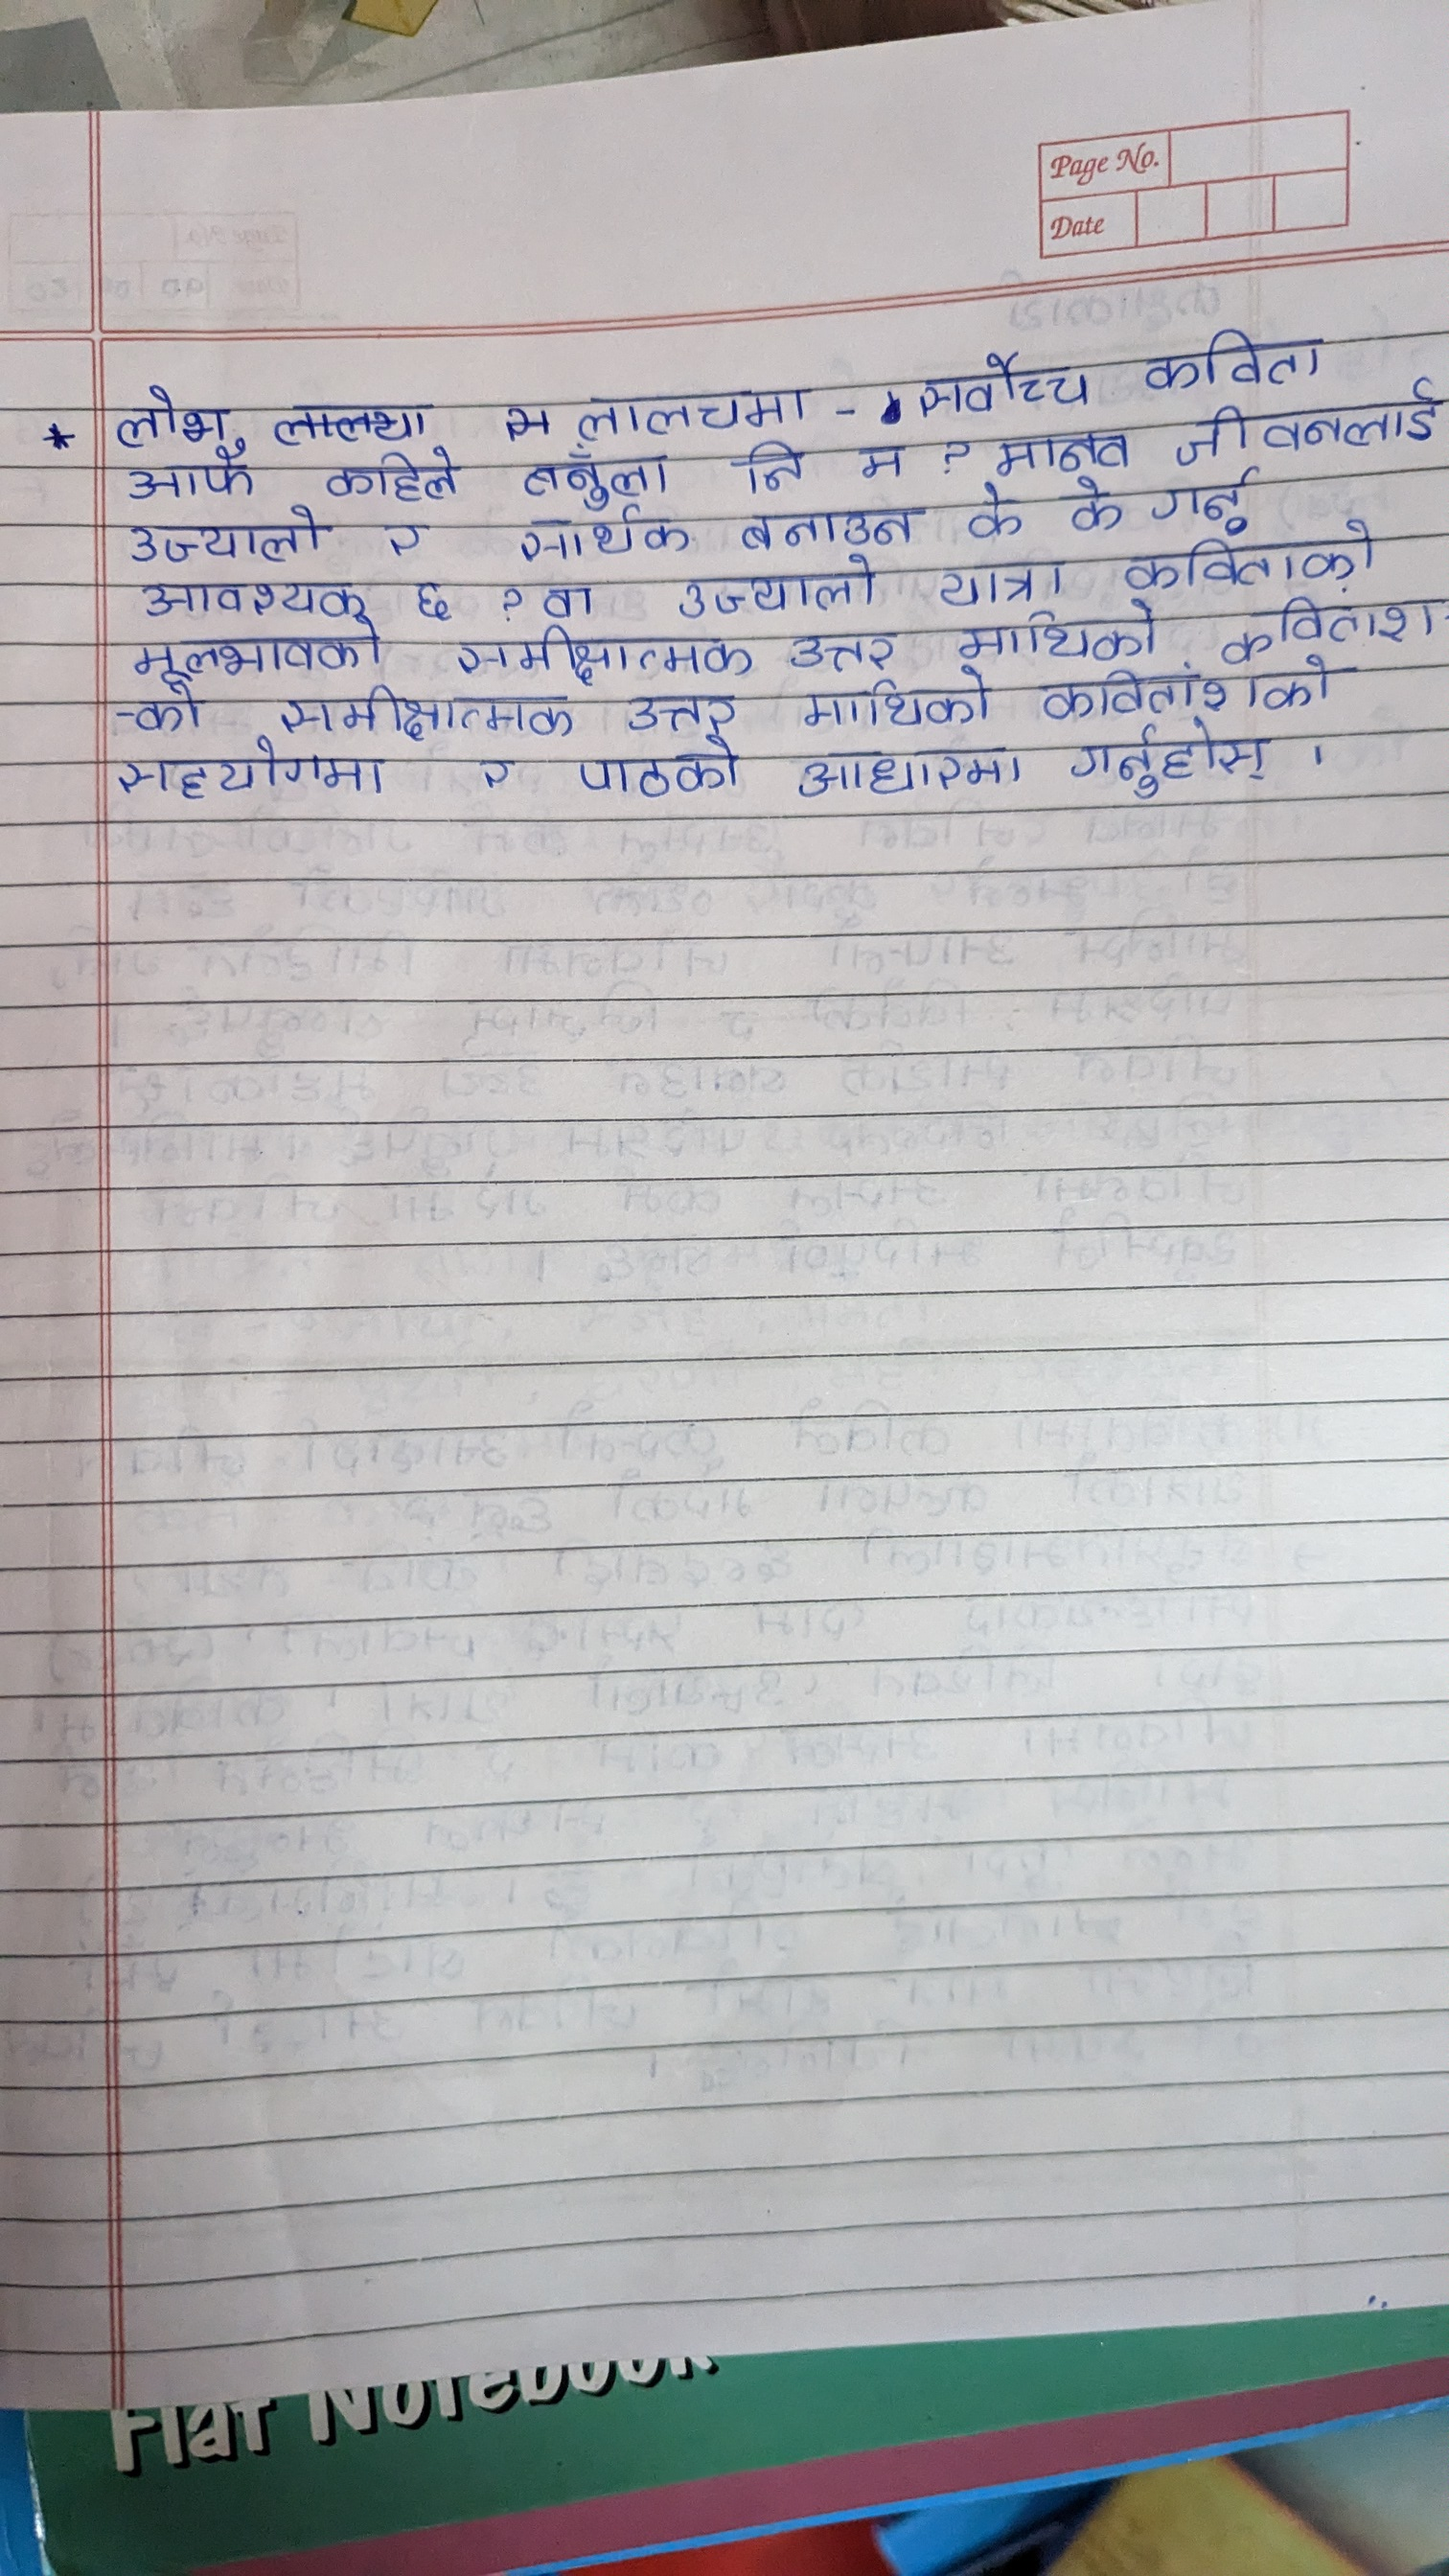text: (1166, 387, 1447, 465), (442, 626, 757, 685), (108, 747, 398, 807), (265, 688, 579, 740), (1063, 720, 1274, 796), (787, 745, 1030, 809), (1125, 531, 1382, 591), (1031, 669, 1341, 717), (136, 623, 393, 679), (561, 380, 816, 433), (1215, 600, 1445, 655), (916, 341, 1095, 410), (119, 508, 329, 563), (1134, 329, 1325, 386), (133, 577, 366, 619), (579, 743, 748, 801), (679, 563, 872, 614), (508, 446, 676, 504), (504, 510, 695, 561), (955, 614, 1164, 660), (798, 678, 991, 725), (103, 384, 235, 448), (731, 508, 913, 552), (1152, 469, 1267, 531), (989, 425, 1132, 474), (327, 449, 458, 497), (119, 453, 255, 497), (929, 563, 1065, 607), (778, 625, 901, 671), (127, 683, 209, 740), (623, 688, 731, 731), (962, 485, 1031, 548), (732, 442, 812, 495), (1065, 478, 1123, 533), (855, 435, 920, 483), (533, 577, 603, 619), (467, 750, 524, 801), (403, 570, 455, 621), (379, 510, 421, 557)
